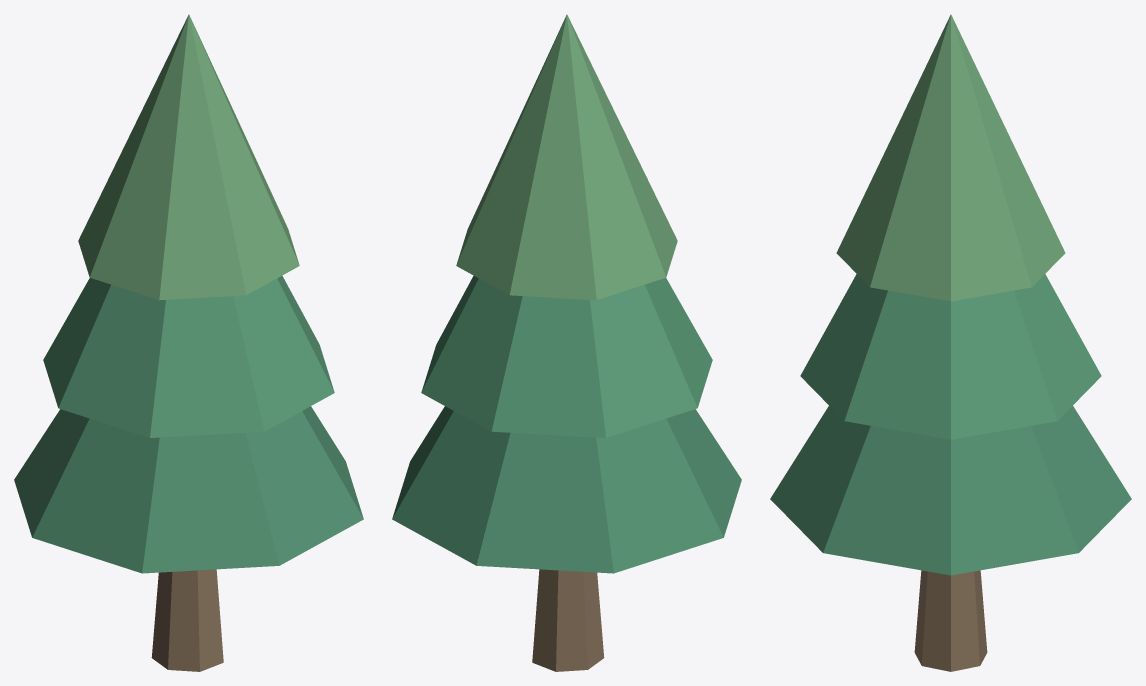
Rendered from pine.glb.
The picture shows the model from 3 angles, left to right: view 1: azimuth 30°, elevation 25°; view 2: azimuth 150°, elevation 25°; view 3: azimuth 270°, elevation 25°; orthographic projection.
Visible parts, largest first — view 1: pine; view 2: pine; view 3: pine.
Part boxes in pixels (<box>): pine: <box>14,14,363,671</box>; pine: <box>392,14,741,671</box>; pine: <box>770,14,1131,671</box>.
Size of the model in its own units: 2.4 by 4.7 by 2.4.
